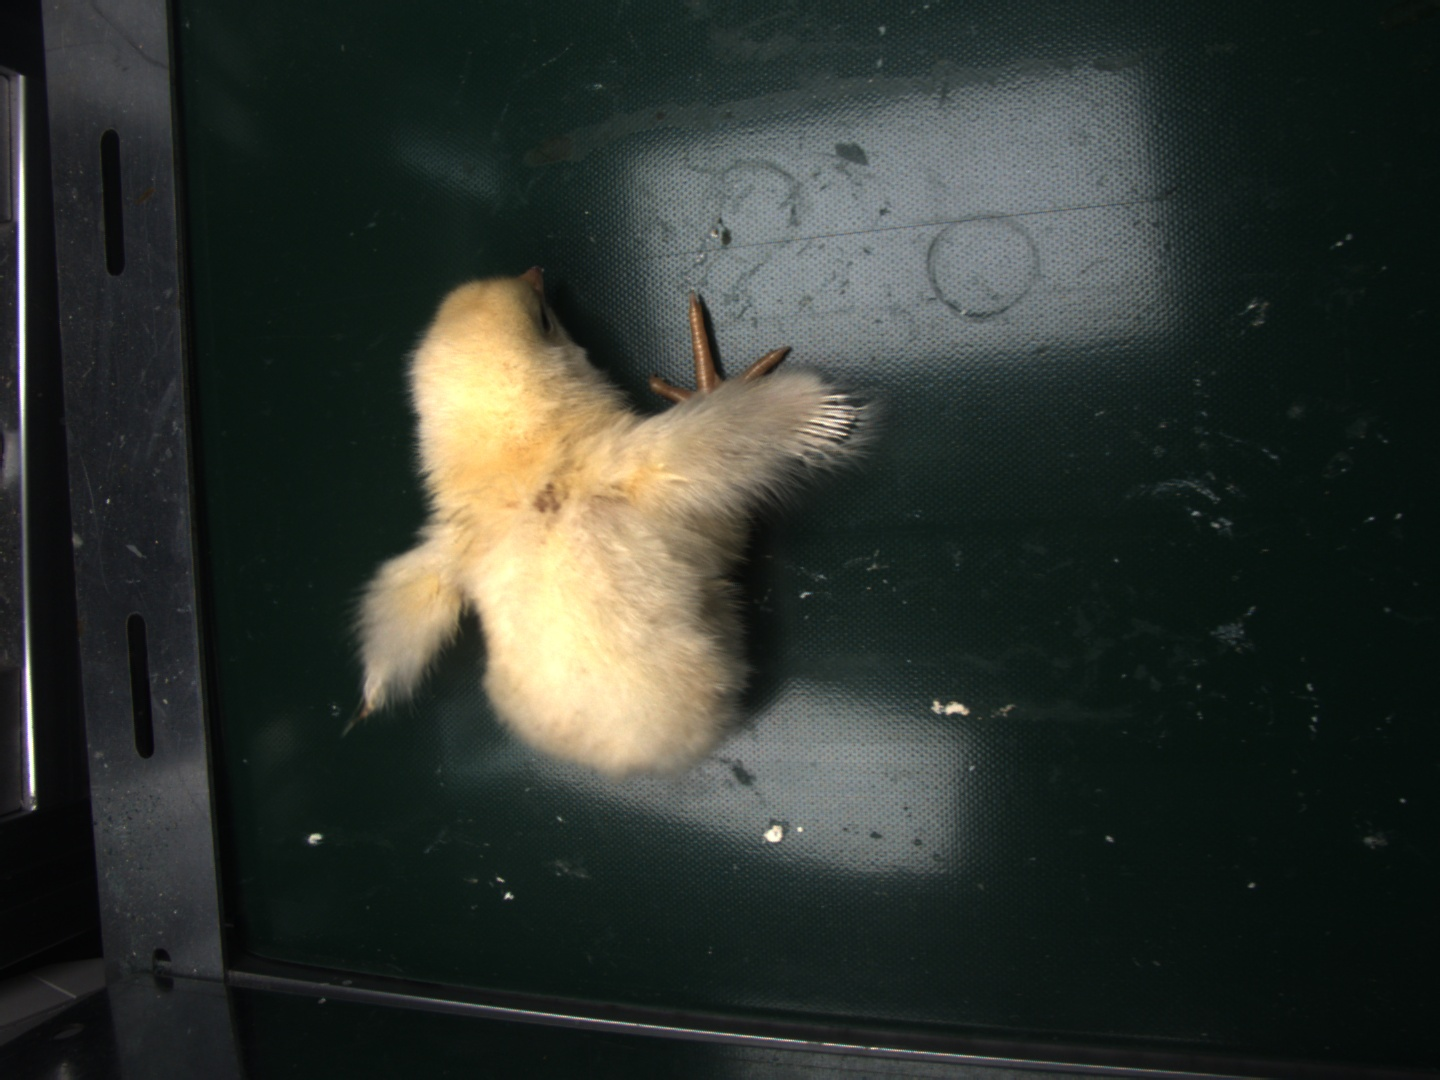male: (794, 389, 862, 459)
